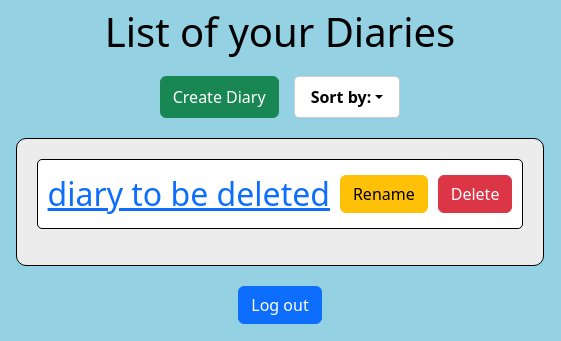
Test case: DiaryListComponent › should successfully delete a diary and update the diary list
Expected: the link "diary to be deleted" is shown, [48,170,330,218]
Click the button "Delete" at (475, 194), box [438,175,512,213]
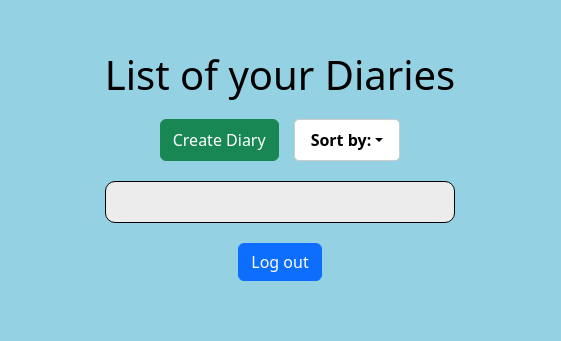
Expected: the link "diary to be deleted" is gone
